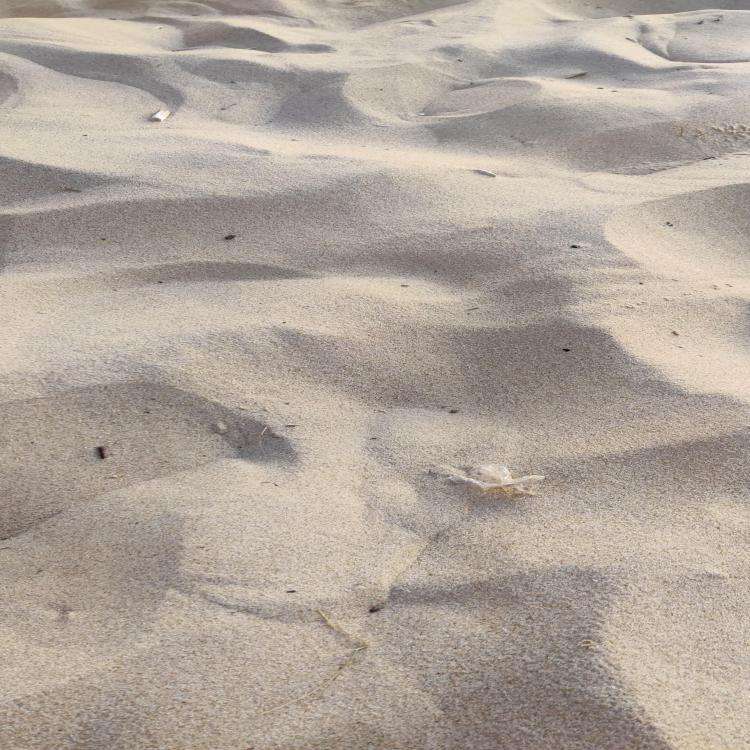Cigarette: (150, 110, 169, 121)
Plastic film: (449, 464, 545, 490)
